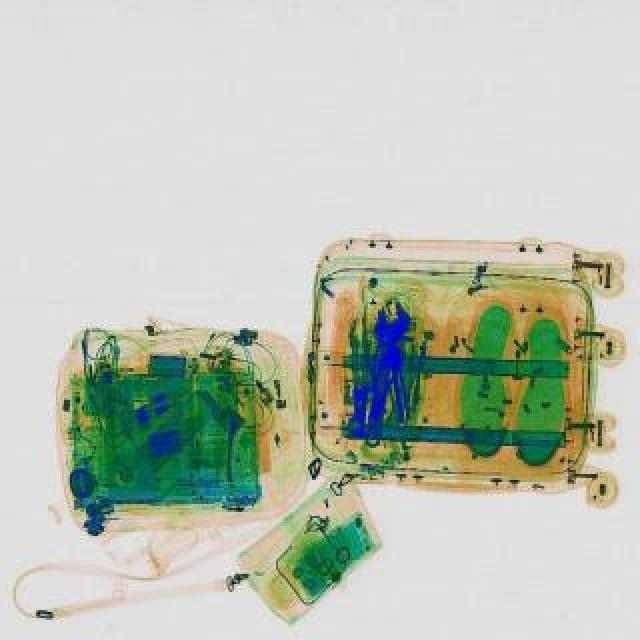scissors: (352, 300, 412, 448)
